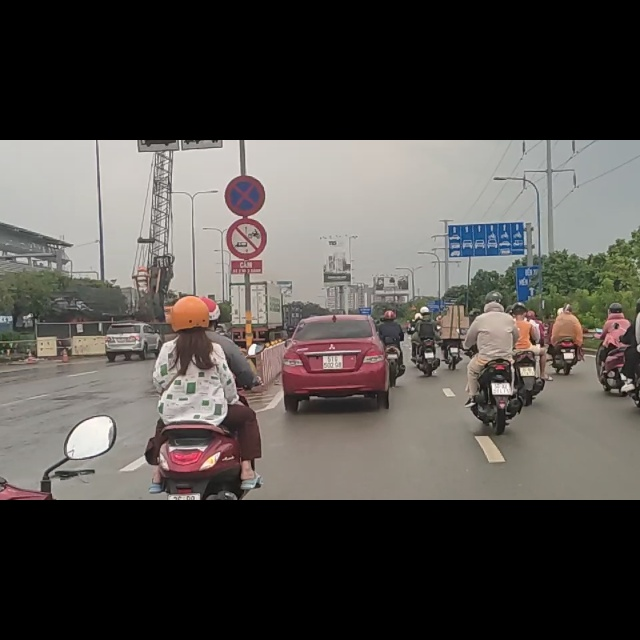bien_chi_dan: (226, 139, 267, 211), (226, 139, 266, 211), (225, 64, 264, 134)
